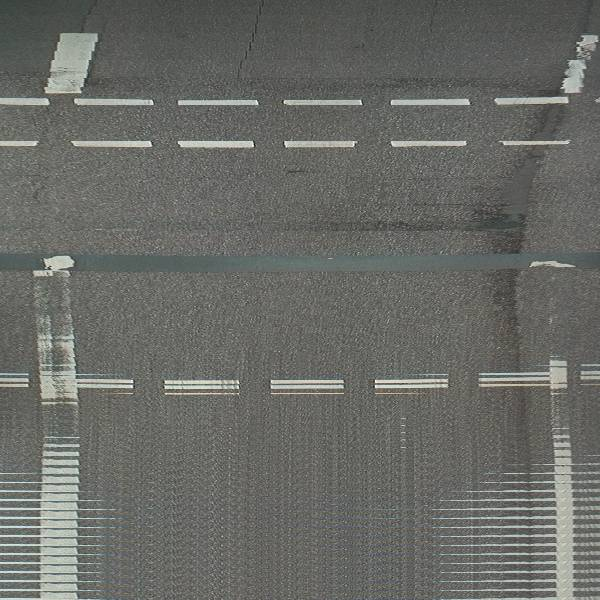road_damage: (1, 234, 599, 284), (93, 201, 558, 246), (464, 192, 531, 350)
